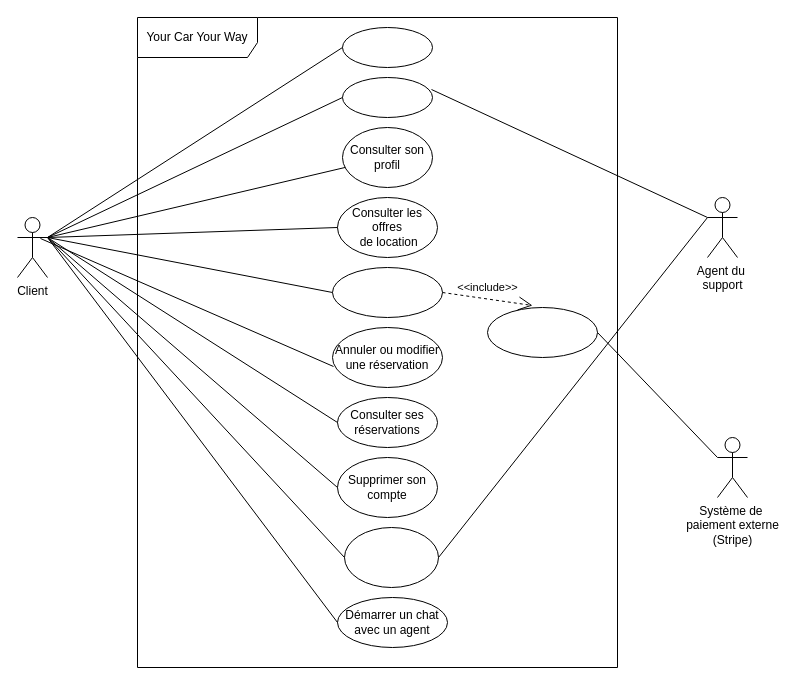
Image size: 796x685. Some labels were removed from this diagram. The box of each missing label's shape, as (x1, y1, x2, y2) in pixels:
Créer un compte: (342, 26, 432, 68)
Effectuer un paiement: (486, 306, 598, 358)
Envoyer un message: (344, 526, 438, 588)
Réserver une location: (332, 266, 442, 318)
Se connecter: (342, 76, 432, 118)
